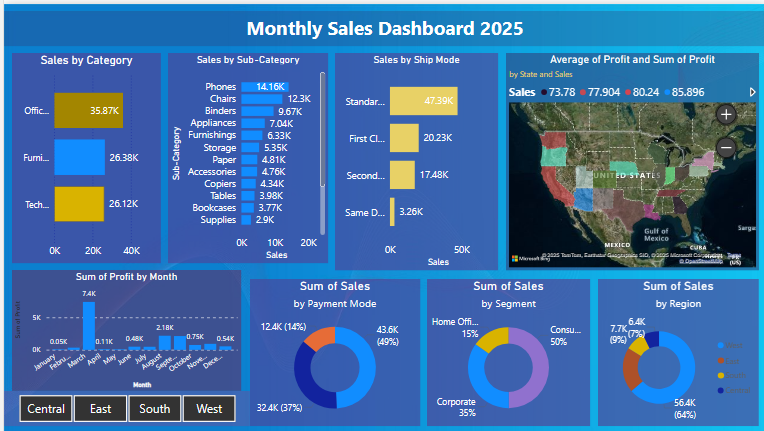

The dashboard page shown, as its layout file describes it:
{"tool":"powerbi","page":{"name":"Page 1","canvas":[1280,720],"ordinal":0},"visuals":[{"type":"clusteredBarChart","fields":{"Category":["Sheet1.Category"],"Y":["Sum(Sheet1.Sales)"]},"box":[13.4,82.3,250.3,352.8],"z":0},{"type":"clusteredBarChart","fields":{"Y":["Sum(Sheet1.Sales)"],"Category":["Sheet1.Sub-Category"]},"box":[275.5,82.3,268.8,352.8],"z":1},{"type":"clusteredBarChart","fields":{"Y":["Sum(Sheet1.Sales)"],"Category":["Sheet1.Ship Mode"]},"box":[556,82.3,273.8,364.5],"z":2},{"type":"clusteredColumnChart","fields":{"Category":["Sheet1.Order Date.Variation.Date Hierarchy.Month"],"Y":["Sum(Sheet1.Profit)"]},"box":[13.4,446.8,384.7,203.3],"z":4},{"type":"filledMap","fields":{"Category":["Sheet1.State"],"Series":["Sheet1.Sales"],"Y":["Avg(Sheet1.Profit)"]},"box":[843.3,82.3,425,364.5],"z":5},{"type":"textbox","box":[0,11.8,1280,58.8],"z":6},{"type":"donutChart","fields":{"Category":["Sheet1.Segment"],"Y":["Sum(Sheet1.Sales)"]},"box":[710.6,461.9,273.8,246.9],"z":7},{"type":"donutChart","fields":{"Y":["Sum(Sheet1.Sales)"],"Category":["Sheet1.Region"]},"box":[997.8,461.9,270.4,246.9],"z":8},{"type":"donutChart","fields":{"Y":["Sum(Sheet1.Sales)"],"Category":["Sheet1.Payment Mode"]},"box":[413.2,461.9,285.6,246.9],"z":9},{"type":"slicer","fields":{"Values":["Sheet1.Region"]},"box":[0,650.1,413.2,58.8],"z":10}]}

Visuals, with their boxes in screenshot pixels (x1, y1, x2, y2), scaled from the page's 1280x720 canvas onto the 764x431 screenshot:
clusteredBarChart - Sheet1.Category x Sum(Sheet1.Sales): x1=8, y1=49, x2=157, y2=260
clusteredBarChart - Sum(Sheet1.Sales) x Sheet1.Sub-Category: x1=164, y1=49, x2=325, y2=260
clusteredBarChart - Sum(Sheet1.Sales) x Sheet1.Ship Mode: x1=332, y1=49, x2=495, y2=267
clusteredColumnChart - Sheet1.Order Date.Variation.Date Hierarchy.Month x Sum(Sheet1.Profit): x1=8, y1=267, x2=238, y2=389
filledMap - Sheet1.State x Sheet1.Sales: x1=503, y1=49, x2=757, y2=267
textbox: x1=0, y1=7, x2=763, y2=42
donutChart - Sheet1.Segment x Sum(Sheet1.Sales): x1=424, y1=276, x2=588, y2=424
donutChart - Sum(Sheet1.Sales) x Sheet1.Region: x1=596, y1=276, x2=757, y2=424
donutChart - Sum(Sheet1.Sales) x Sheet1.Payment Mode: x1=247, y1=276, x2=417, y2=424
slicer - Sheet1.Region: x1=0, y1=389, x2=247, y2=424
